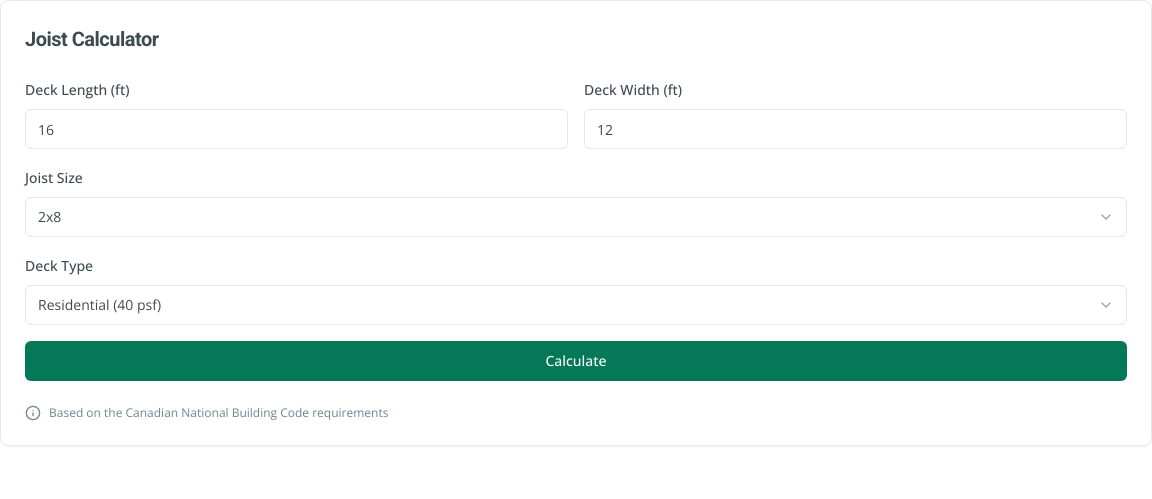
Test case: JoistCalculator › shows an error when width is negative
Step 1. Replace the text in the number field labelled "Deck Width (ft)" with "-4" → (856, 129), box [584,109,1127,149]
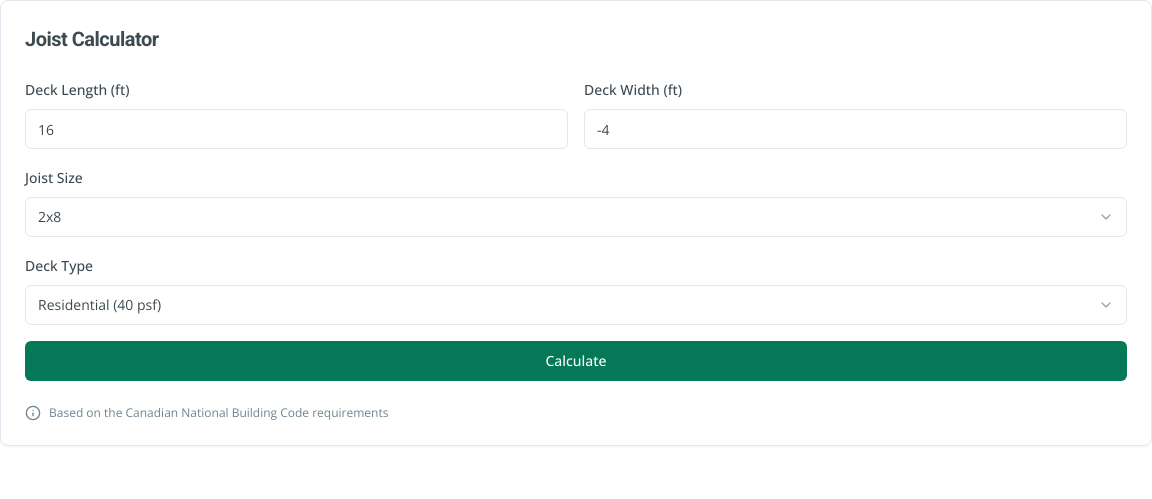
Step 2. Click the button "Calculate" → click(576, 361), box [25,341,1127,381]
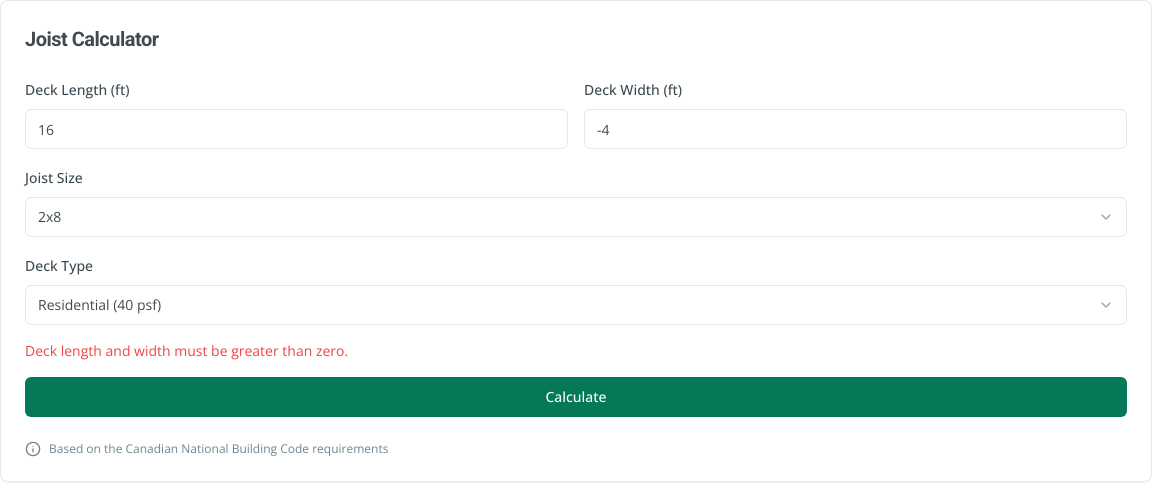
Now the message "Deck length and width must be greater than zero." is shown, box [25,341,348,360]
